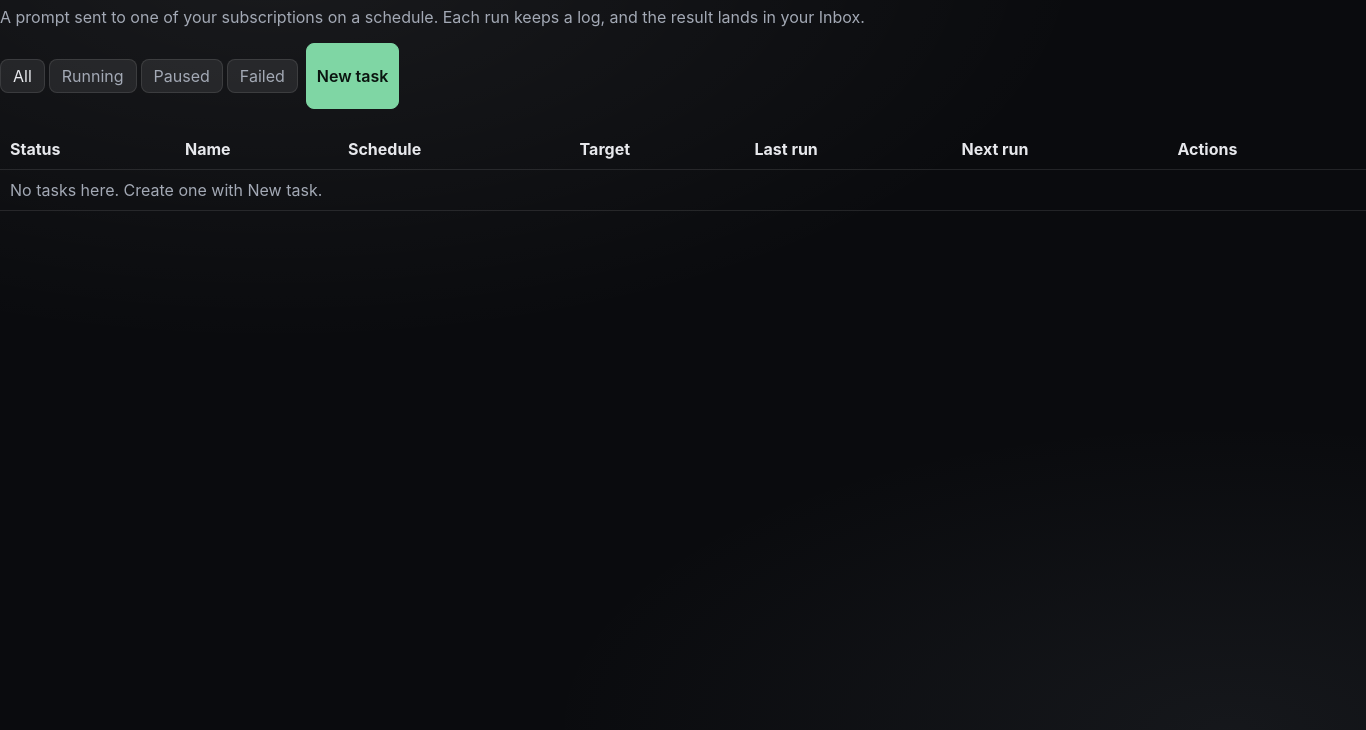
creating a task › needs a name and a prompt
This screenshot has width=1366, height=730.
Click the button "New task" at (353, 76), box [306,43,399,109]
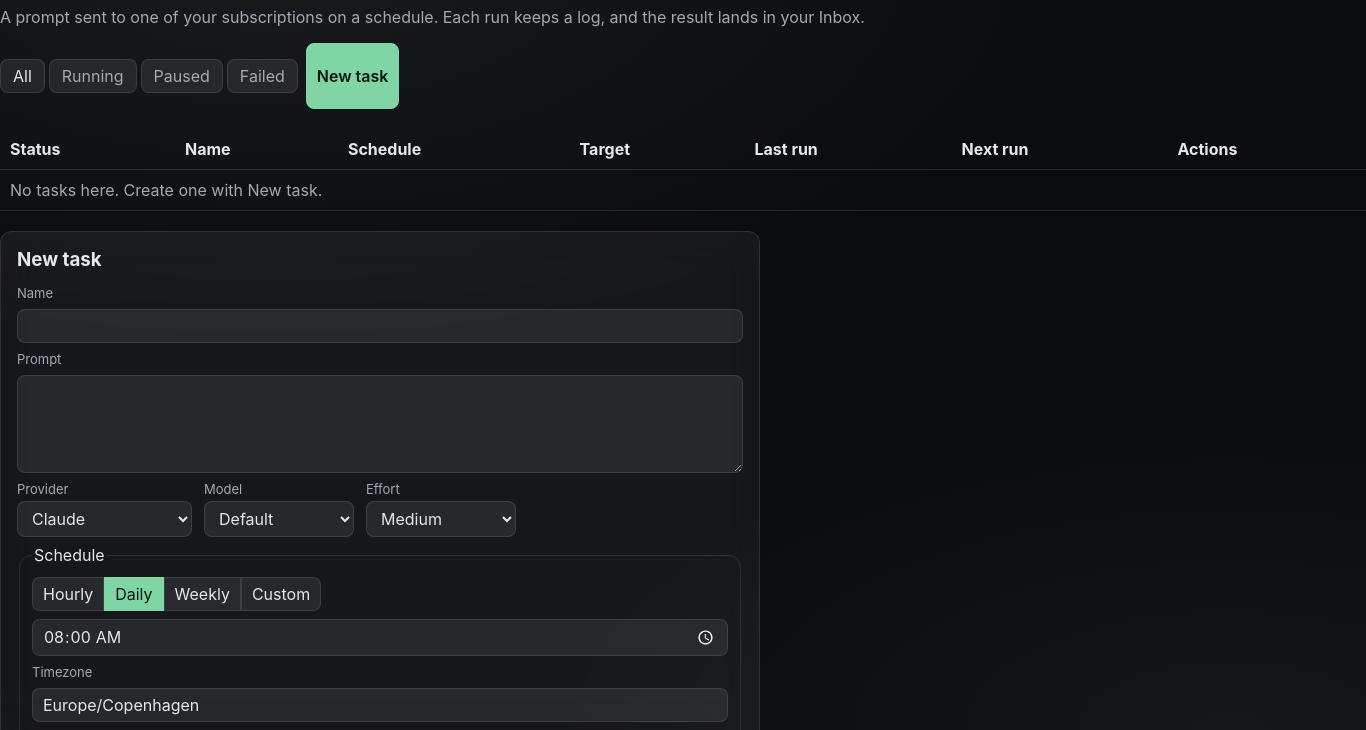
Type "Briefing" into the field labelled "Name" at (380, 326), box [17,309,743,343]
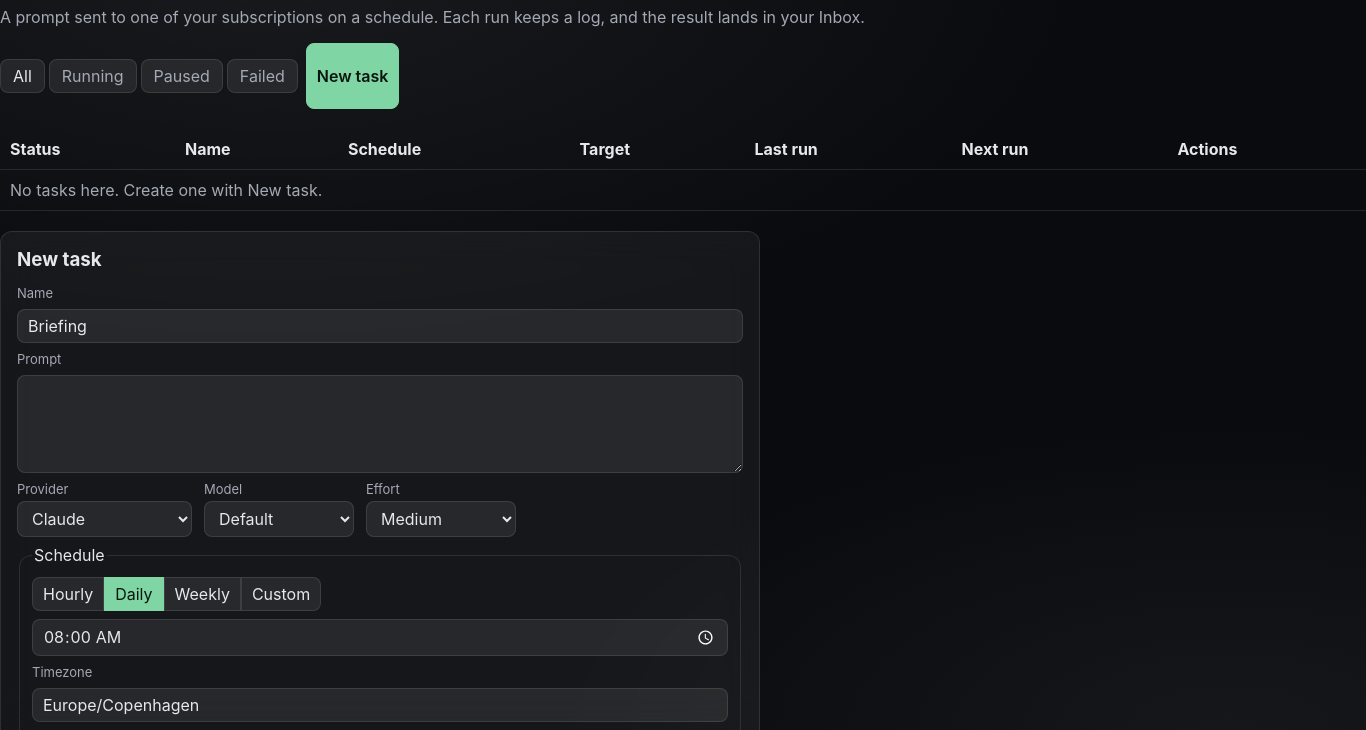
Type "Summarise the news" into the text box labelled "Prompt" at (380, 424), box [17,375,743,473]
(page scrolled)
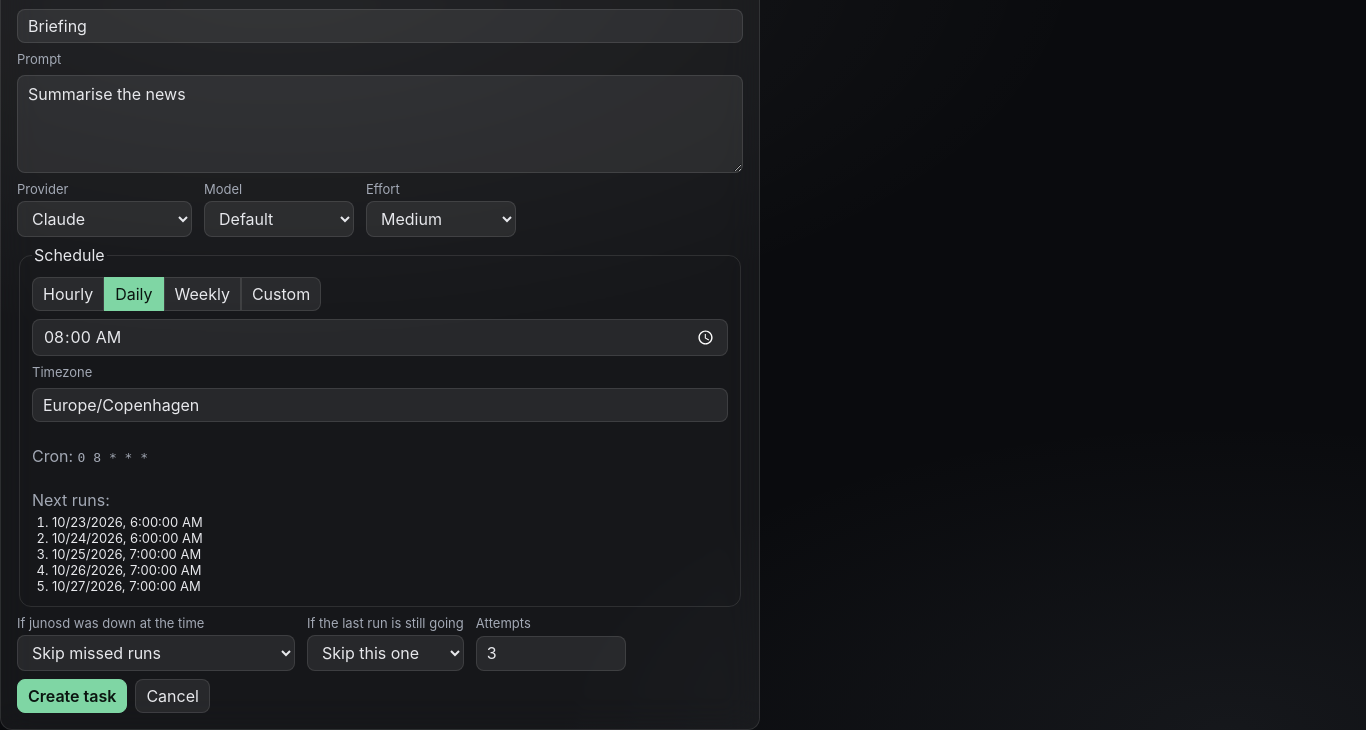
Now the button "Create task" is enabled, box [17,679,127,713]
